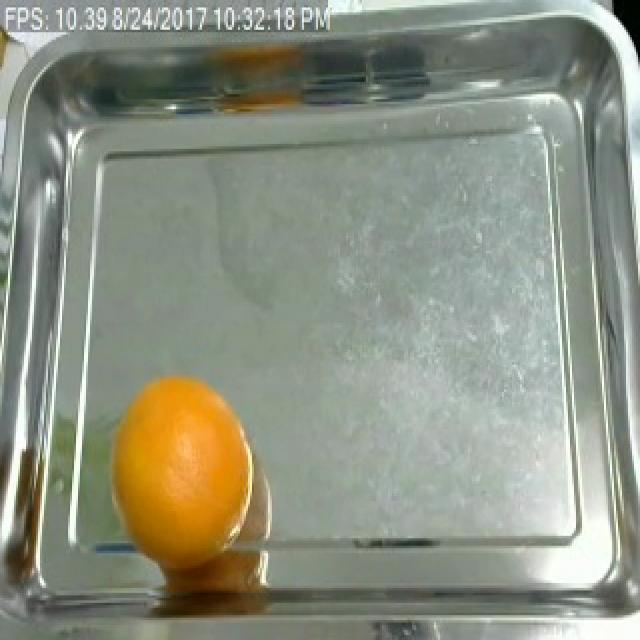Fruit: (104, 364, 256, 586), (0, 2, 18, 112)
